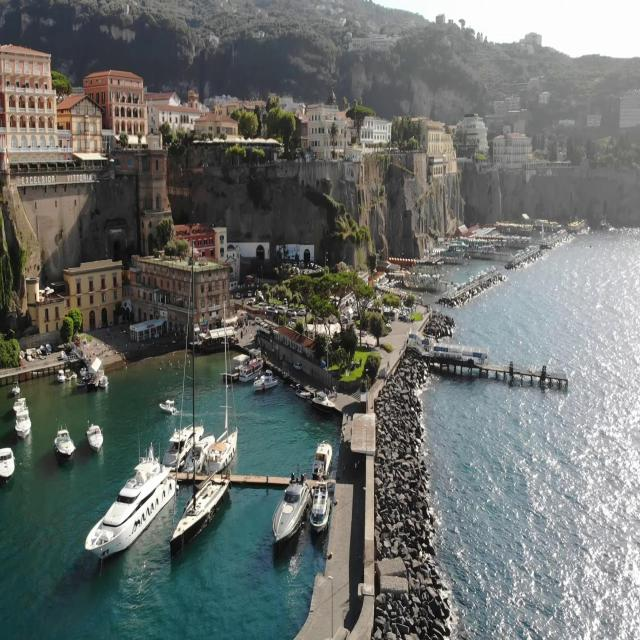boat: (89, 418, 177, 570), (270, 470, 312, 550), (165, 420, 205, 474), (182, 432, 218, 476), (311, 481, 332, 535), (0, 382, 17, 439), (312, 438, 332, 482), (53, 426, 76, 462), (253, 368, 278, 394), (240, 358, 264, 384), (312, 390, 336, 414), (86, 422, 104, 453), (17, 408, 33, 442), (14, 392, 28, 416), (160, 400, 178, 417), (11, 381, 23, 398), (98, 374, 110, 391), (58, 367, 66, 382)
sailboat: (168, 243, 230, 562), (206, 302, 237, 473)
